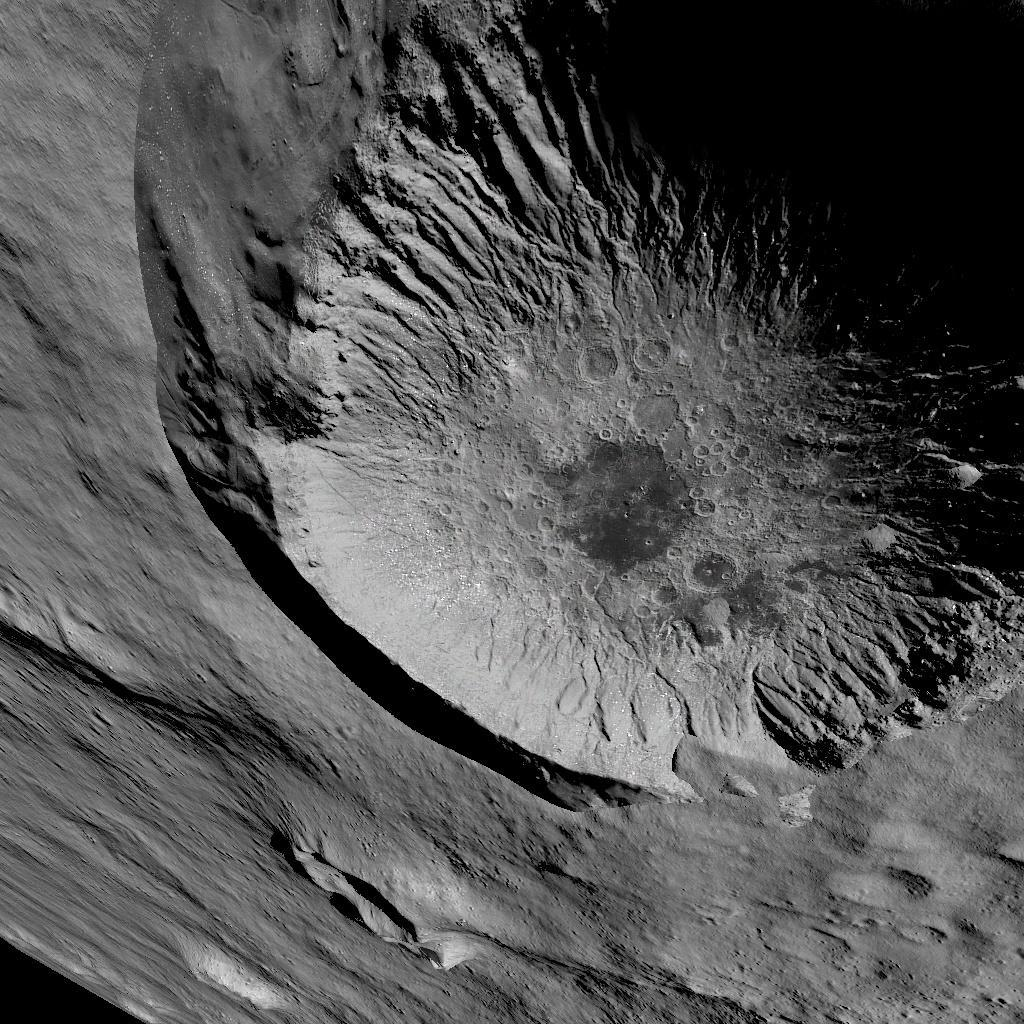Crater: (105, 0, 1024, 821), (257, 832, 433, 982)
Plan surface: (485, 836, 1024, 1024)
